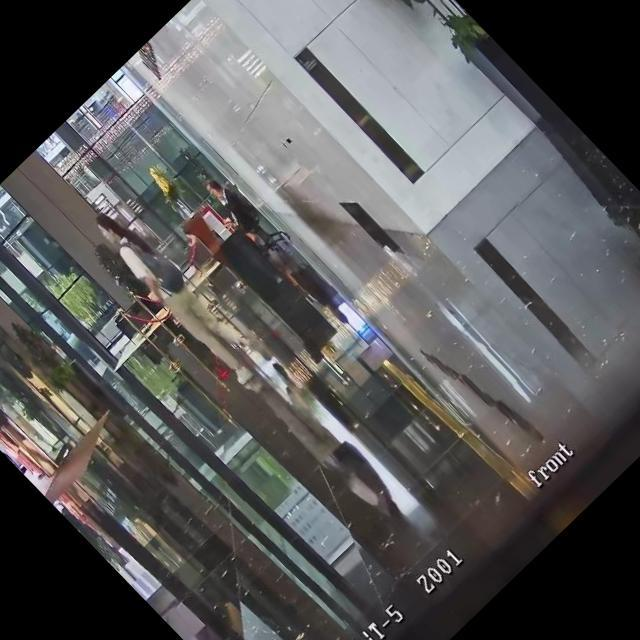person: (80, 198, 272, 394), (198, 170, 280, 254), (0, 385, 59, 457), (0, 402, 46, 482), (179, 227, 199, 247)
